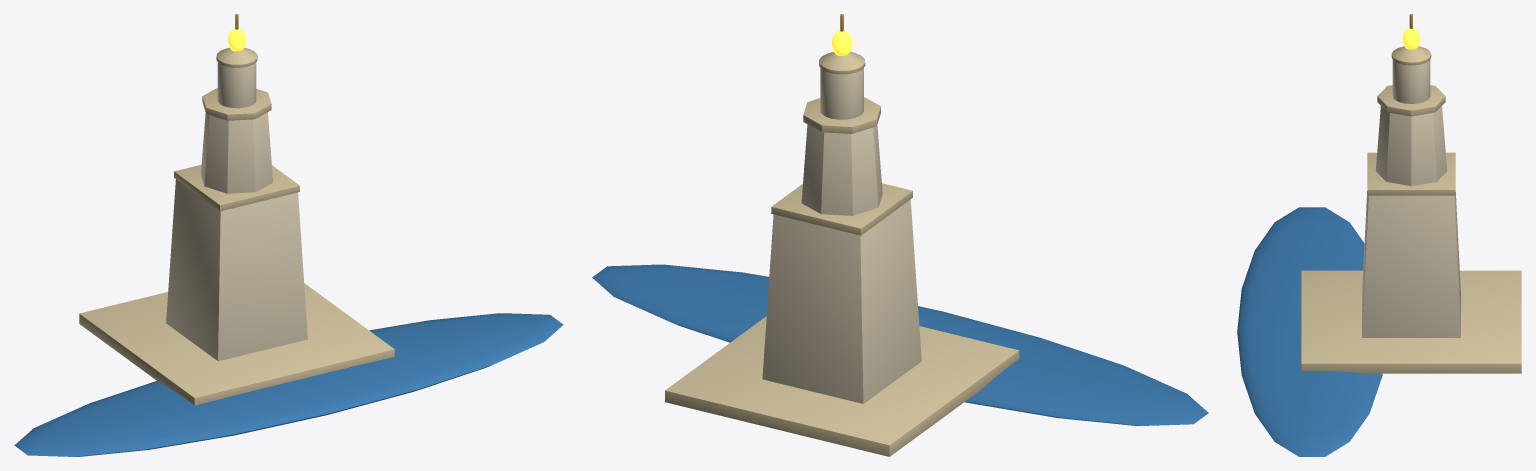
The model's file is marco_alexandria.glb.
3 renders of one model, left to right at view 1: azimuth 30°, elevation 25°; view 2: azimuth 150°, elevation 25°; view 3: azimuth 270°, elevation 25°, orthographic. The views are drawn at different scales.
Parts seen in each view (by area): view 1: marco_alexandria; view 2: marco_alexandria; view 3: marco_alexandria.
Boxes of the visible parts, left/top/right/bottom form: marco_alexandria: left=14, top=14, right=563, bottom=456; marco_alexandria: left=592, top=14, right=1208, bottom=456; marco_alexandria: left=1237, top=14, right=1521, bottom=456.
Bounding box in the file's own units: 107 × 65.2 × 51.59.
